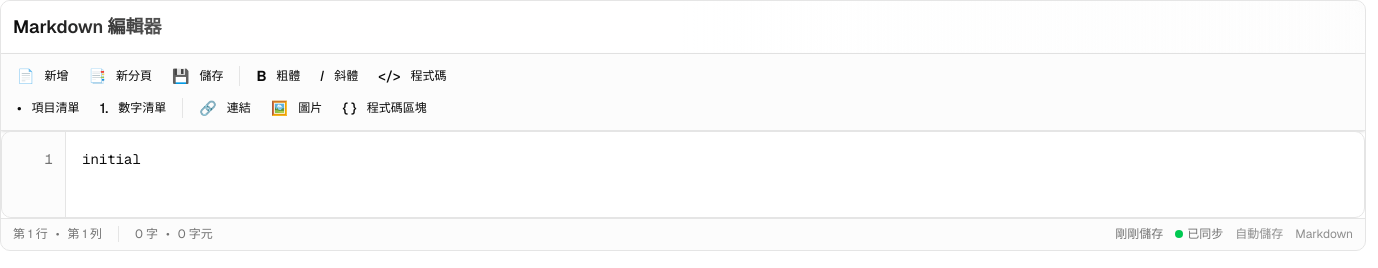
Test: EditorPanel › should show modified indicator when content changes
Type " changed" into the text box with test id "editor-textarea" at coordinates (715, 174), box x1=66 y1=132 x2=1364 y2=216
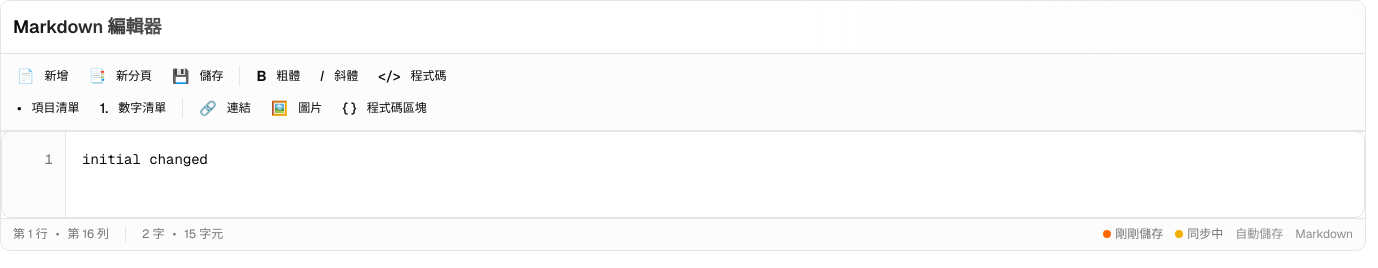
expect the element with test id "modified-indicator" is shown: met, box x1=1103 y1=230 x2=1111 y2=238
